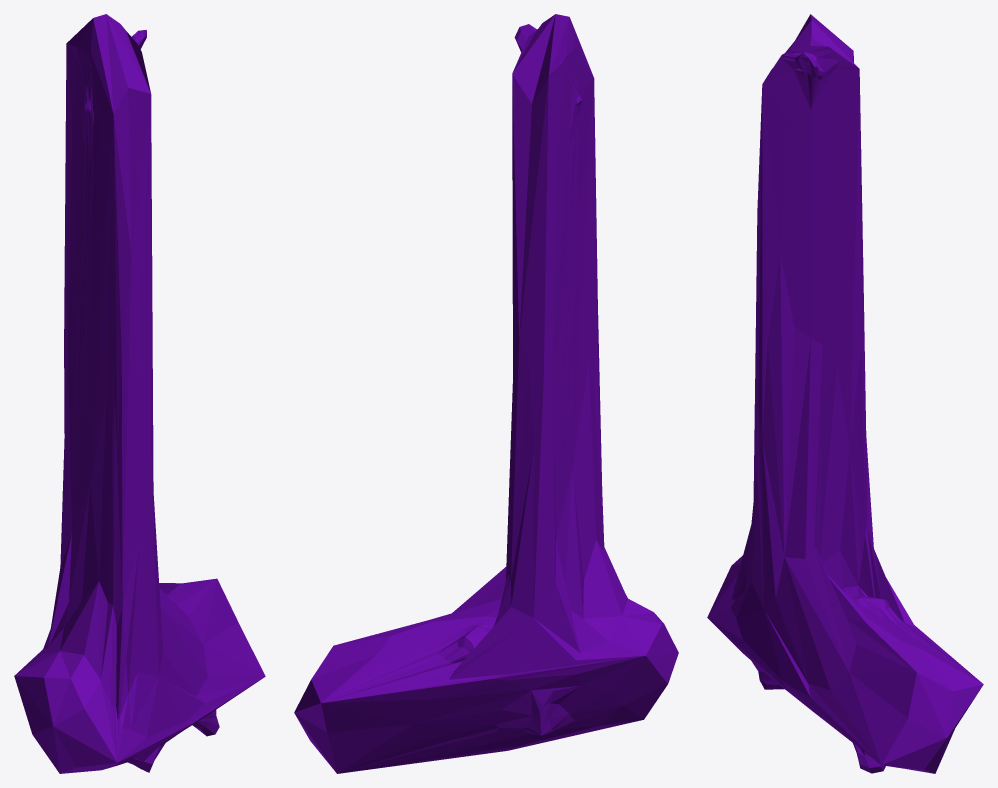
3 renders of one model, left to right at view 1: azimuth 30°, elevation 25°; view 2: azimuth 150°, elevation 25°; view 3: azimuth 270°, elevation 25°, orthographic. The views are drawn at different scales.
Parts seen in each view (by area): view 1: 822_Cube.3311; view 2: 822_Cube.3311; view 3: 822_Cube.3311.
Part boxes in pixels (x1,y1,x2,y2): 822_Cube.3311: (14, 14, 265, 773); 822_Cube.3311: (294, 14, 678, 773); 822_Cube.3311: (707, 14, 983, 773).
Size of the model in its own units: 5.05 by 12.81 by 4.63.
